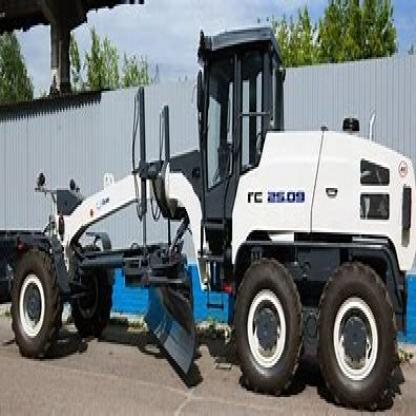bull_dozer/loader/grader: (7, 19, 415, 401)
